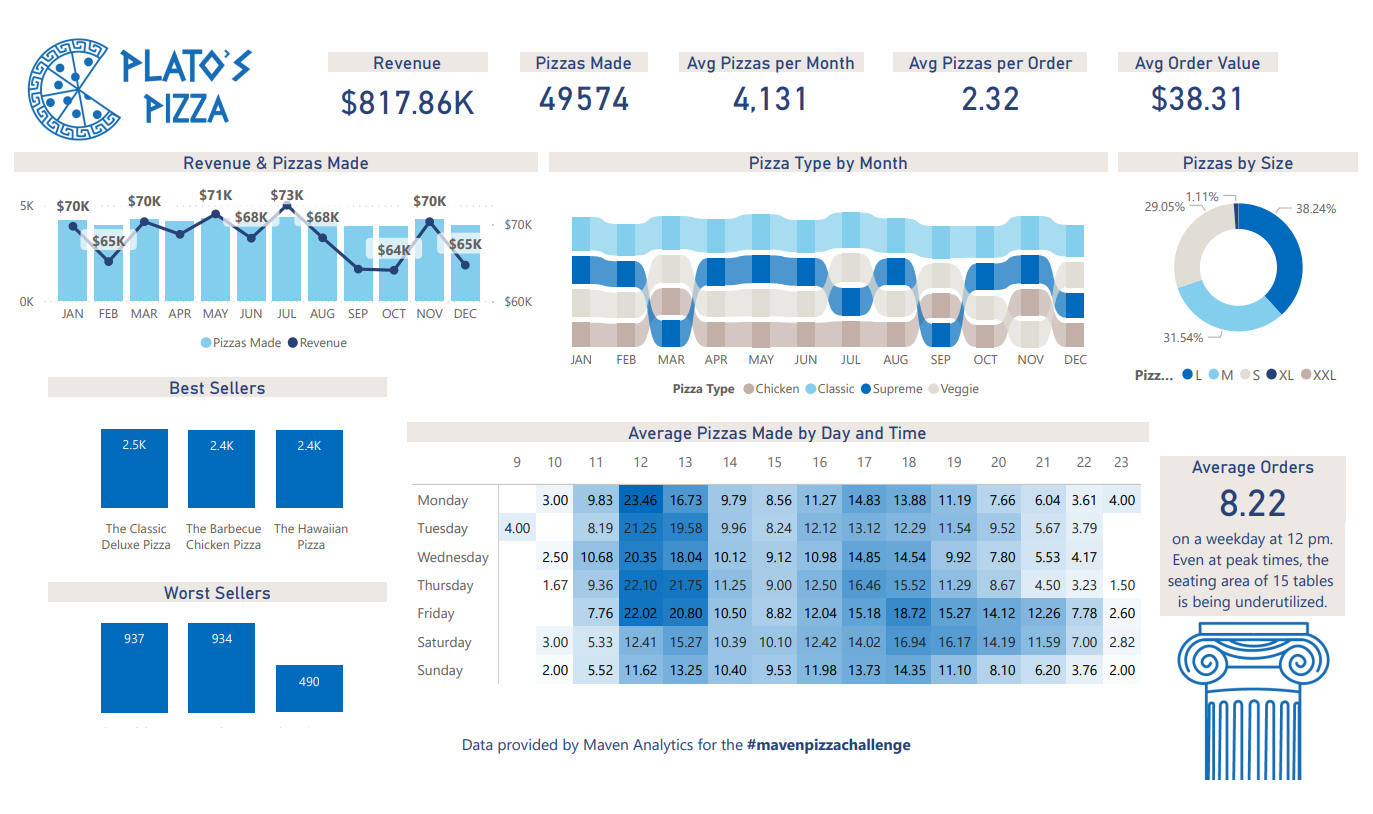

The dashboard page shown, as its layout file describes it:
{"tool":"powerbi","page":{"name":"Page 1","canvas":[1280,720],"ordinal":0},"visuals":[{"type":"lineStackedColumnComboChart","title":"Revenue & Pizzas Made","fields":{"Category":["dates.Short Month"],"Y2":["Sum(order_details.Revenue)"],"Y":["order_details.Total Pizzas"]},"box":[0,116.8,499.1,200],"z":0},{"type":"card","title":"Avg Order Value","fields":{"Values":["orders.Average Order Value"]},"box":[1051.6,22.2,151.6,63.8],"z":1000},{"type":"pivotTable","title":"Average Pizzas Made by Day and Time","fields":{"Columns":["orders.Hour"],"Values":["order_details.Average Pizzas Per Day"],"Rows":["dates.Day Name"]},"box":[374.3,374.3,705.9,268.3],"z":4000},{"type":"ribbonChart","title":"Pizza Type by Month","fields":{"Y":["order_details.Total Pizzas"],"Category":["dates.Short Month"],"Series":["pizza_types.category"]},"box":[509.9,116.8,531.7,243.6],"z":5000},{"type":"card","title":"Revenue","fields":{"Values":["Sum(order_details.Revenue)"]},"box":[298.8,22.2,151.6,71.8],"z":6000},{"type":"card","title":"Average Orders","fields":{"Values":["orders.Average Orders Per Day"]},"box":[1091.1,406.9,177.2,63.4],"z":7000},{"type":"textbox","box":[1091.5,469.1,176.5,90.4],"z":8000},{"type":"card","title":"Pizzas Made","fields":{"Values":["order_details.Total Pizzas"]},"box":[482.4,22.2,120.6,63.8],"z":9000},{"type":"image","box":[0,0,240.6,112.9],"z":10000},{"type":"card","title":"Avg Pizzas per Month","fields":{"Values":["order_details.Average Pizzas Per Month"]},"box":[633.1,22.2,175.6,63.8],"z":11000},{"type":"card","title":"Avg Pizzas per Order","fields":{"Values":["orders.Average Pizzas per Order"]},"box":[837.9,22.2,184.4,63.8],"z":12000},{"type":"donutChart","title":"Pizzas by Size","fields":{"Category":["pizzas.size"],"Y":["order_details.Total Pizzas"]},"box":[1051.5,116.8,228.7,230.7],"z":13000},{"type":"columnChart","title":"Best Sellers","fields":{"Category":["pizza_types.name"],"Y":["order_details.Total Pizzas"]},"box":[32.7,331.7,321.8,175.2],"z":14000},{"type":"columnChart","title":"Worst Sellers","fields":{"Category":["pizza_types.name"],"Y":["order_details.Total Pizzas"]},"box":[32.7,526.7,321.8,175.2],"z":15000},{"type":"textbox","box":[0,665.9,1280.4,36.4],"z":15001},{"type":"image","box":[1085.3,556.8,188.9,163.2],"z":15002}]}

Visuals, with their boxes on the page's 1280x720 design canvas (x1, y1, x2, y2). These are canvas units, not pixel positions in the 1373x814 screenshot, which may show the page scaled, cropped or inside an application window:
"Revenue & Pizzas Made" lineStackedColumnComboChart: 0/117/499/317
"Avg Order Value" card: 1052/22/1203/86
"Average Pizzas Made by Day and Time" pivotTable: 374/374/1080/643
"Pizza Type by Month" ribbonChart: 510/117/1042/360
"Revenue" card: 299/22/450/94
"Average Orders" card: 1091/407/1268/470
textbox: 1092/469/1268/560
"Pizzas Made" card: 482/22/603/86
image: 0/0/241/113
"Avg Pizzas per Month" card: 633/22/809/86
"Avg Pizzas per Order" card: 838/22/1022/86
"Pizzas by Size" donutChart: 1052/117/1280/348
"Best Sellers" columnChart: 33/332/354/507
"Worst Sellers" columnChart: 33/527/354/702
textbox: 0/666/1280/702
image: 1085/557/1274/720
